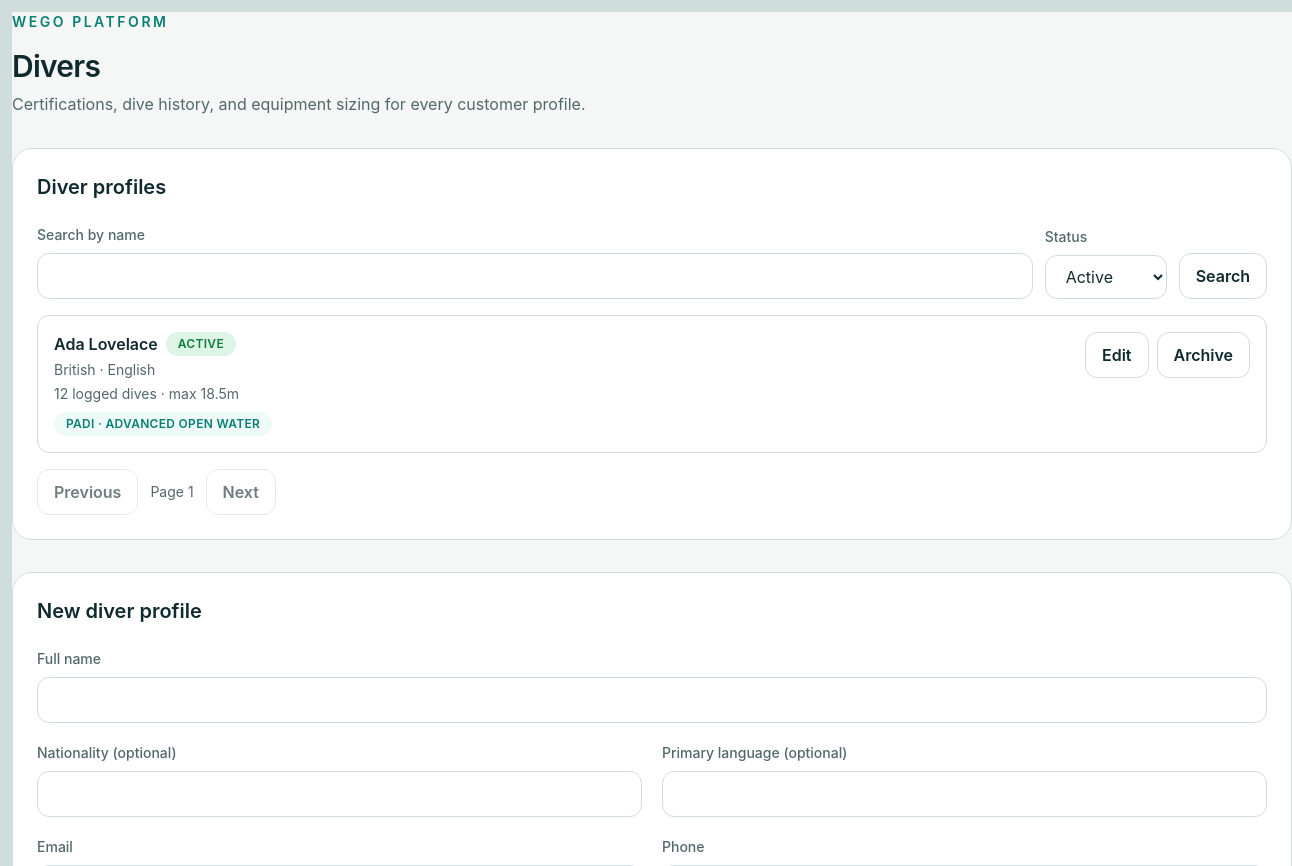
Test case: divers page › archives a diver profile after confirmation and removes it from the active list
This screenshot has width=1292, height=866.
Click the button "Archive". click: point(1203, 355)
box: [1156,332,1250,378]
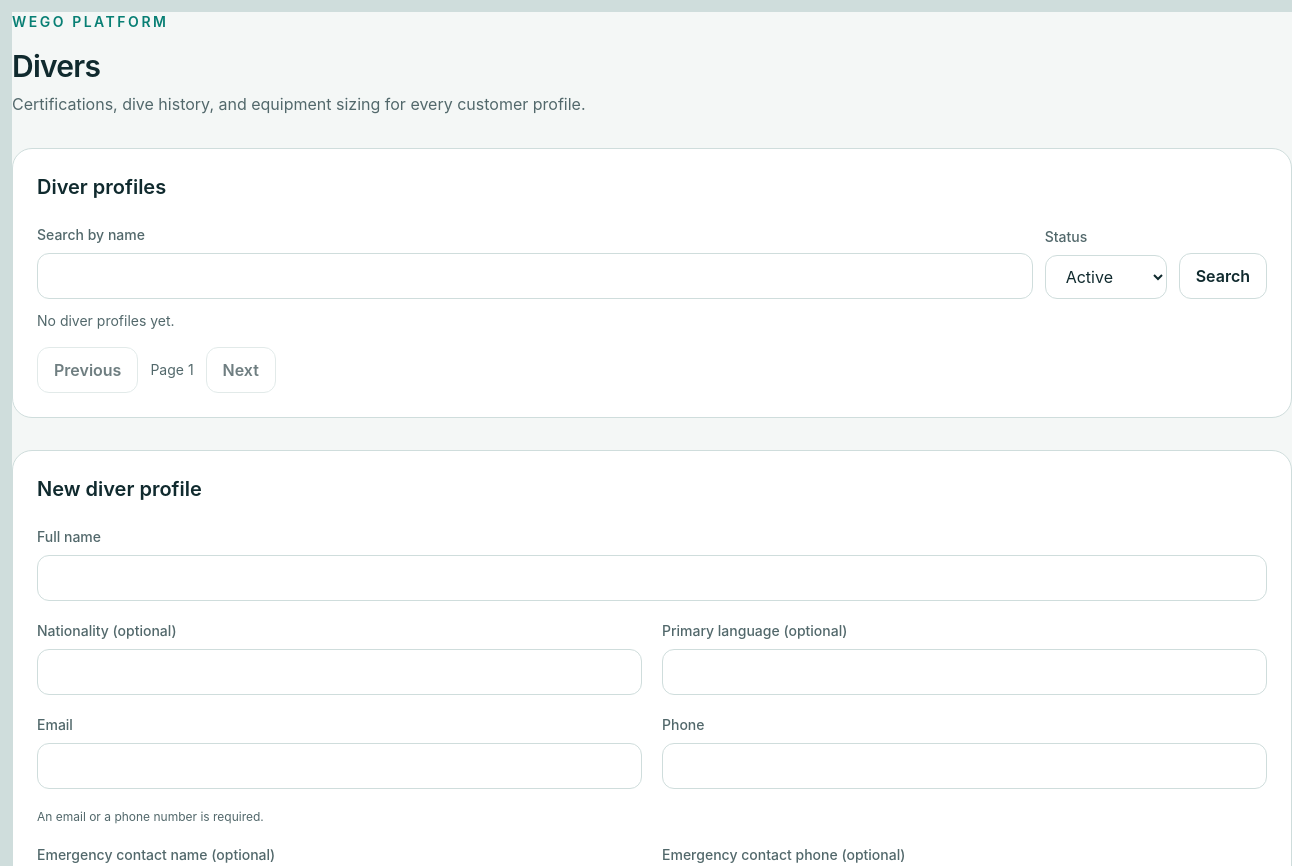
Expected: the text "Ada Lovelace" is gone
